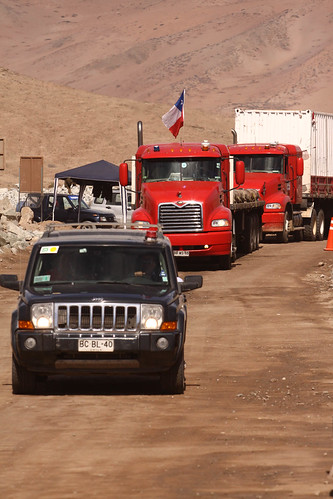car: (4, 234, 185, 401)
flag: (149, 85, 199, 159)
tent: (48, 157, 133, 231)
traffic cone: (321, 220, 333, 257)
truck: (132, 148, 260, 249), (250, 106, 333, 240)
